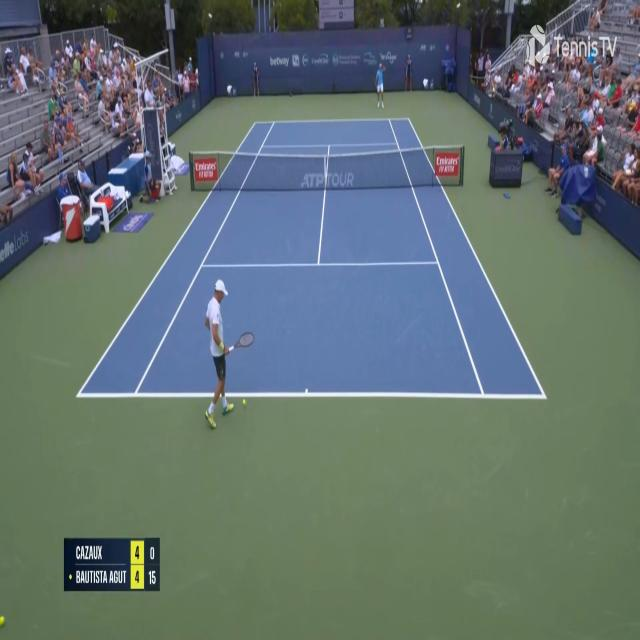tennis-player: (202, 276, 256, 430), (374, 60, 386, 109)
